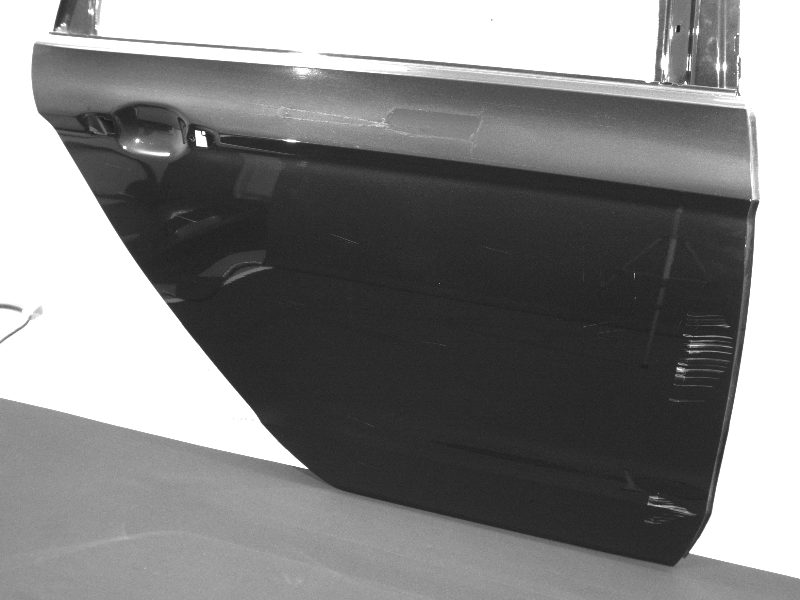scratch: (668, 311, 733, 403), (643, 493, 697, 526), (579, 317, 630, 335), (343, 414, 377, 429), (332, 233, 361, 245), (481, 244, 511, 255), (172, 213, 198, 223), (103, 163, 131, 171), (289, 299, 305, 311), (420, 341, 447, 347), (117, 191, 134, 198), (633, 271, 637, 300), (583, 255, 587, 282)
